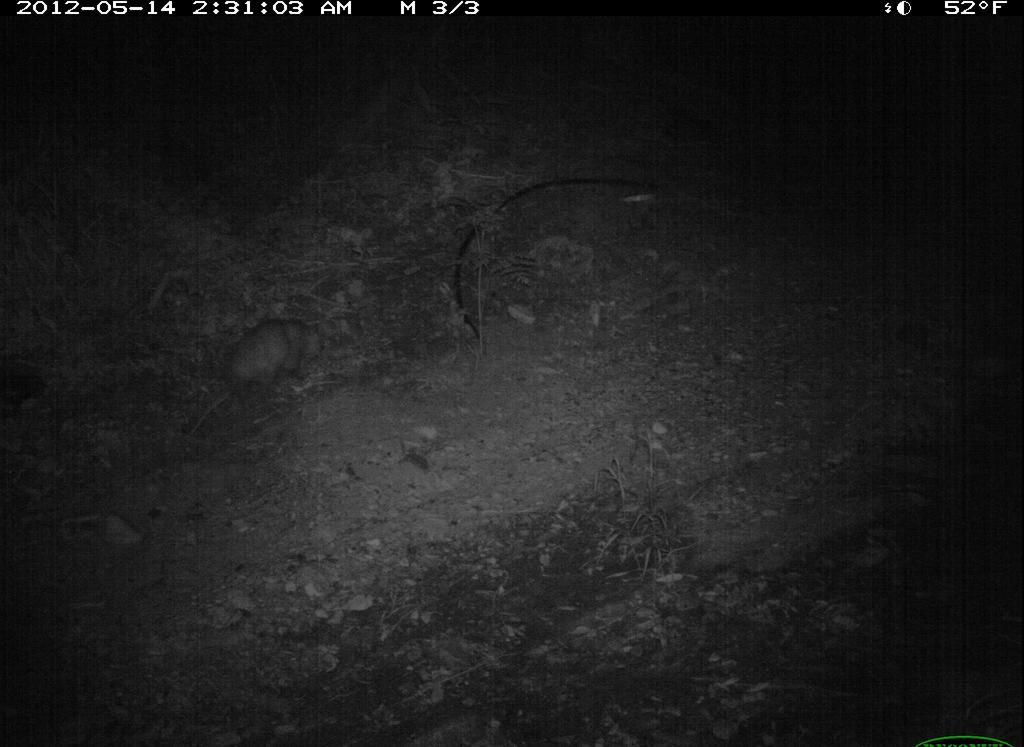opossum: (190, 299, 349, 408)
